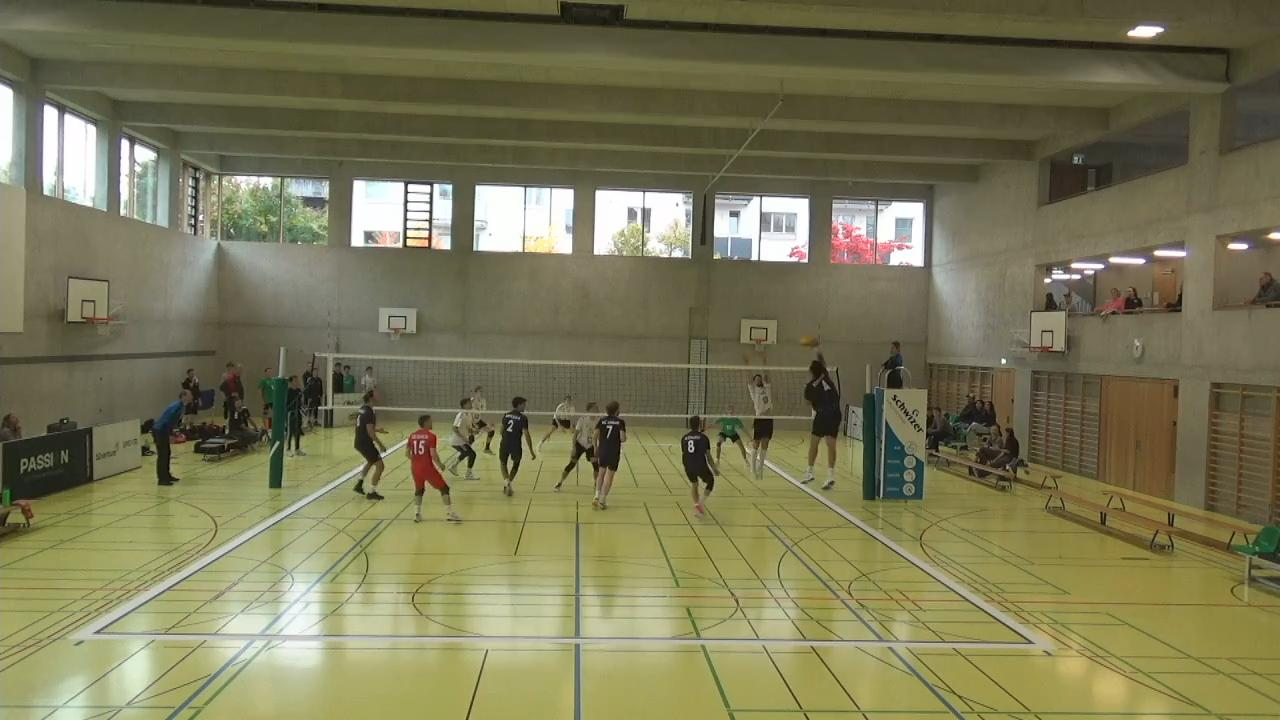Attack: (794, 344, 849, 492)
Block: (743, 357, 779, 483)
Player: (404, 416, 461, 523), (353, 384, 391, 501), (679, 413, 718, 519), (589, 401, 627, 509), (556, 397, 598, 490), (496, 396, 532, 496), (453, 389, 485, 480), (545, 394, 584, 463), (461, 380, 495, 457), (713, 408, 747, 475)
ball: (799, 333, 816, 349)
